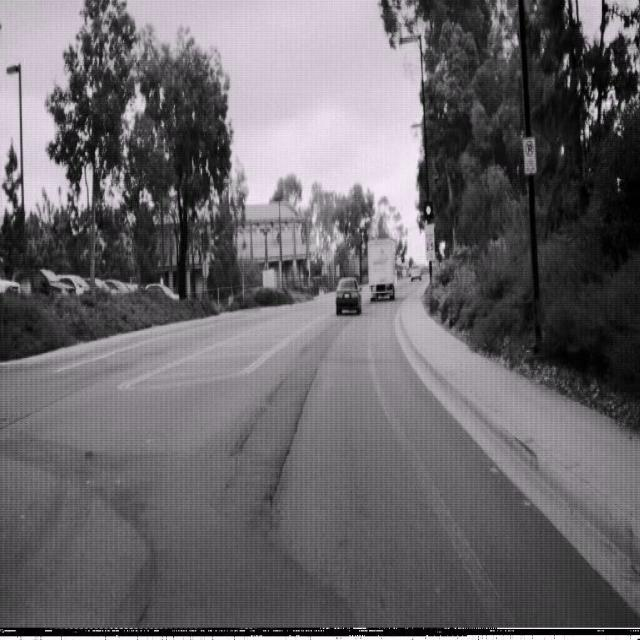speedLimit25: (424, 222, 435, 261)
